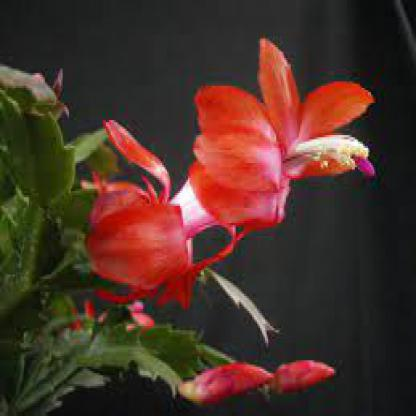Aglonema: (122, 46, 285, 365)
